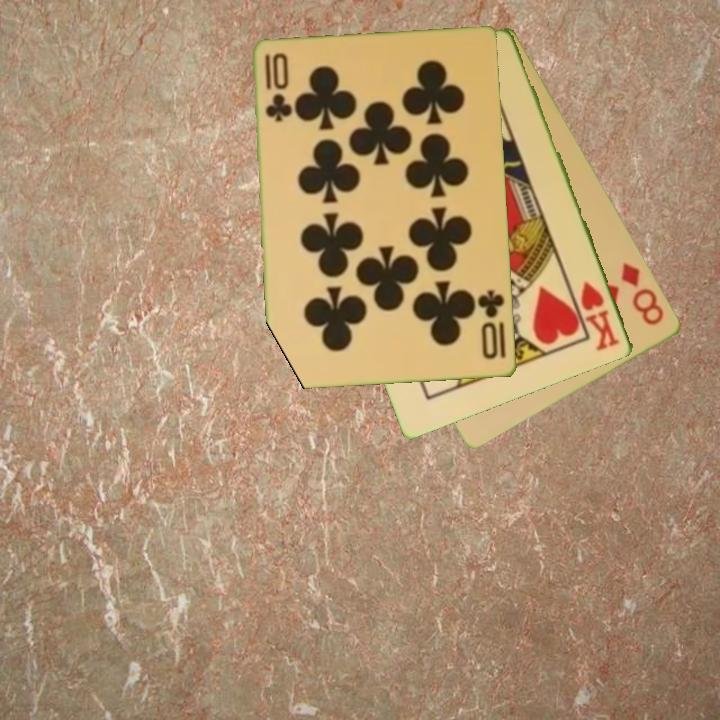10c: (474, 287, 508, 363), (261, 49, 292, 125)
8d: (618, 259, 668, 329)
Kh: (577, 277, 623, 354)
